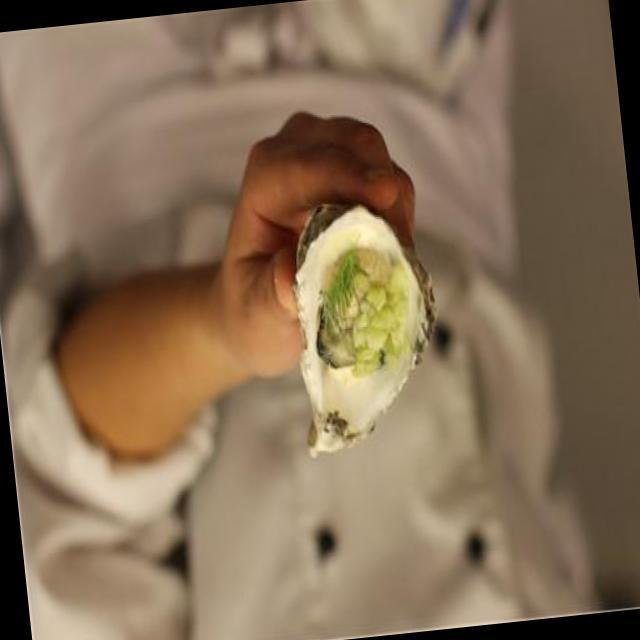Oyster-Open: (293, 207, 434, 459)
